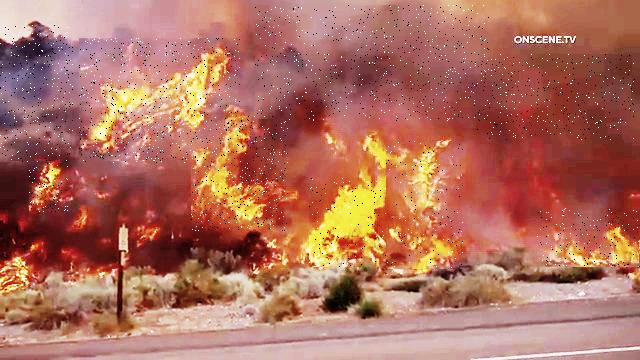fire: (80, 39, 241, 164), (192, 116, 289, 231), (387, 141, 465, 269), (309, 178, 396, 267), (537, 208, 640, 267), (30, 163, 69, 212)
smoke: (256, 6, 490, 122), (477, 55, 636, 141), (0, 25, 73, 162)
